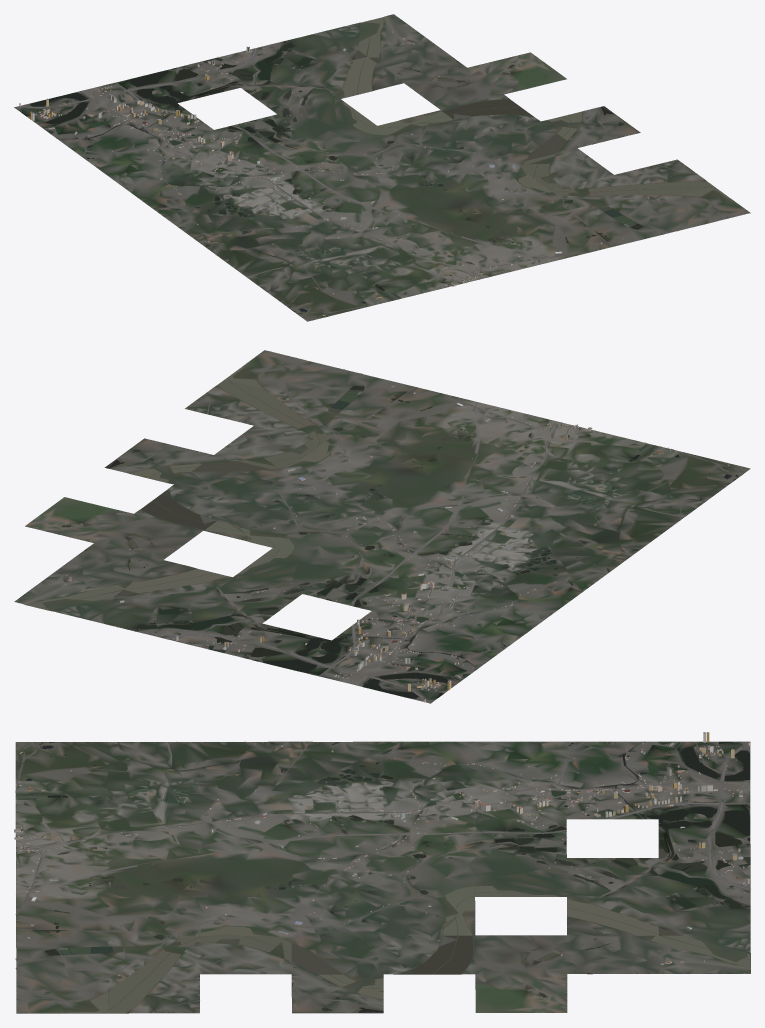
The picture shows the model from 3 angles, top to bottom: view 1: azimuth 30°, elevation 25°; view 2: azimuth 150°, elevation 25°; view 3: azimuth 270°, elevation 25°; orthographic projection. The views are drawn at different scales.
Parts seen in each view (by area): view 1: ground, water, roads, buildings; view 2: ground, water, roads, buildings; view 3: ground, water, roads, buildings.
Boxes of the visible parts, bbox=[...] form: ground: bbox=[14, 14, 750, 321]; water: bbox=[21, 17, 730, 316]; roads: bbox=[14, 43, 721, 317]; buildings: bbox=[19, 31, 649, 315]; ground: bbox=[14, 350, 750, 703]; water: bbox=[26, 366, 740, 698]; roads: bbox=[72, 357, 743, 702]; buildings: bbox=[55, 385, 729, 702]; ground: bbox=[15, 741, 750, 1013]; water: bbox=[16, 741, 750, 1013]; roads: bbox=[15, 741, 750, 1013]; buildings: bbox=[14, 732, 750, 976].
Size of the model in its own units: 9831 by 163 by 11250.
